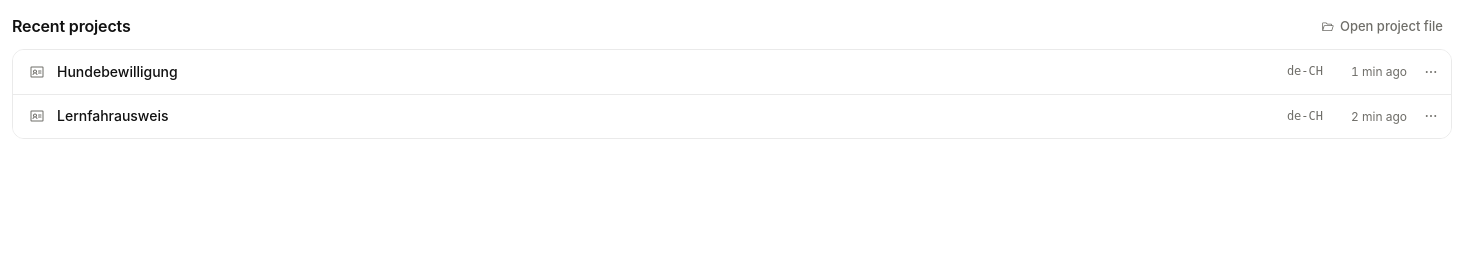
Test: RecentProjects › rename › renames inline from the menu: Enter commits and the row keeps its place and focus
Click the button named "Actions for Lernfahrausweis": (1431, 116) [1419,104,1443,128]
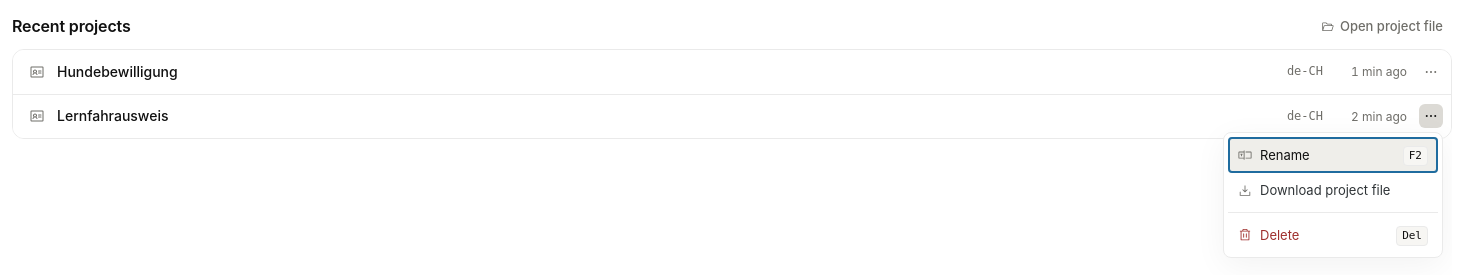
Click the menu item "Rename F2": (1333, 155) [1228,137,1438,173]
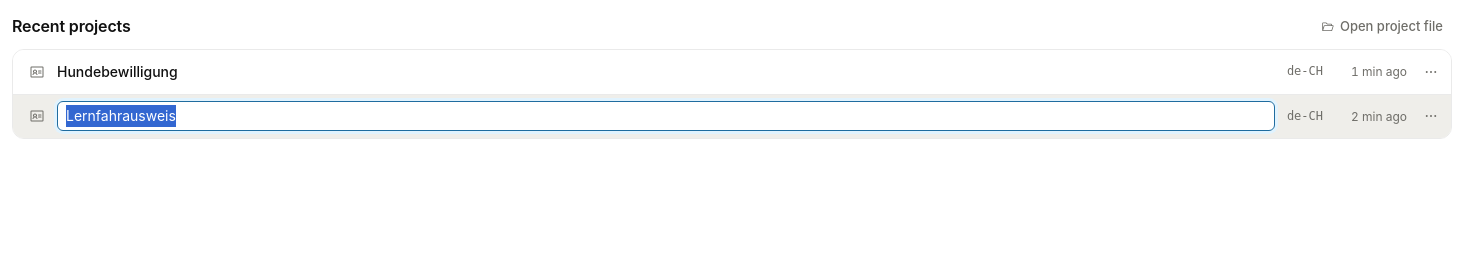
Expected: the field named "Rename Lernfahrausweis" holds "Lernfahrausweis"
Replace the text in the field named "Rename Lernfahrausweis" with "Learner permit": (666, 116) [57,101,1275,132]
Then press Enter
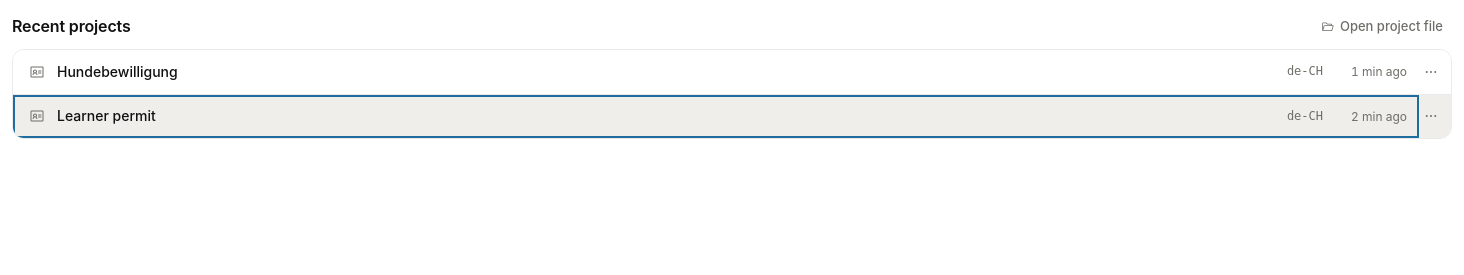
Expected: the text with class "recent__name" reads "Learner permit", [57,107,156,124]
